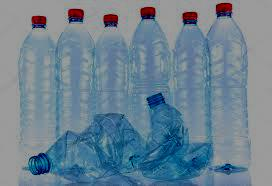Plastic: (202, 3, 256, 179), (26, 111, 152, 185), (52, 3, 98, 179), (128, 4, 171, 184), (167, 8, 212, 179), (17, 8, 62, 177), (91, 13, 131, 183), (141, 88, 210, 182)
